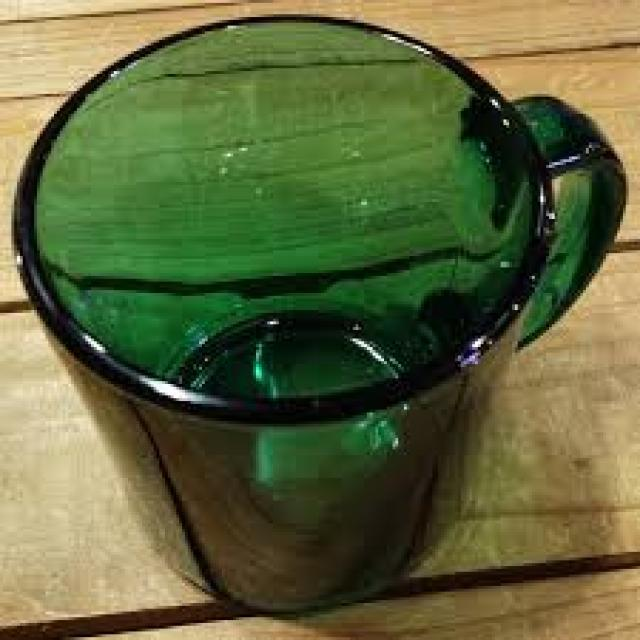Glass: (13, 12, 626, 620)
